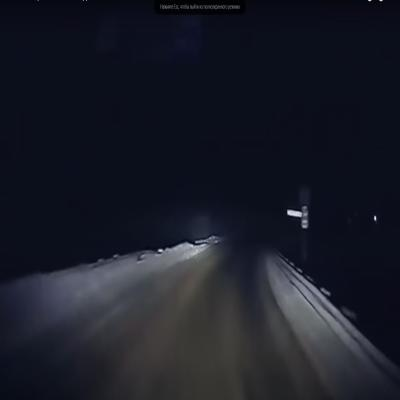iced-road: (0, 247, 327, 399)
